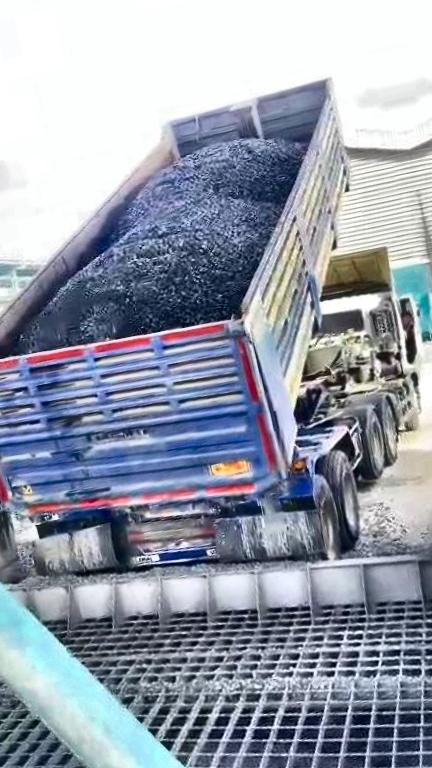gravel: (17, 139, 304, 353)
